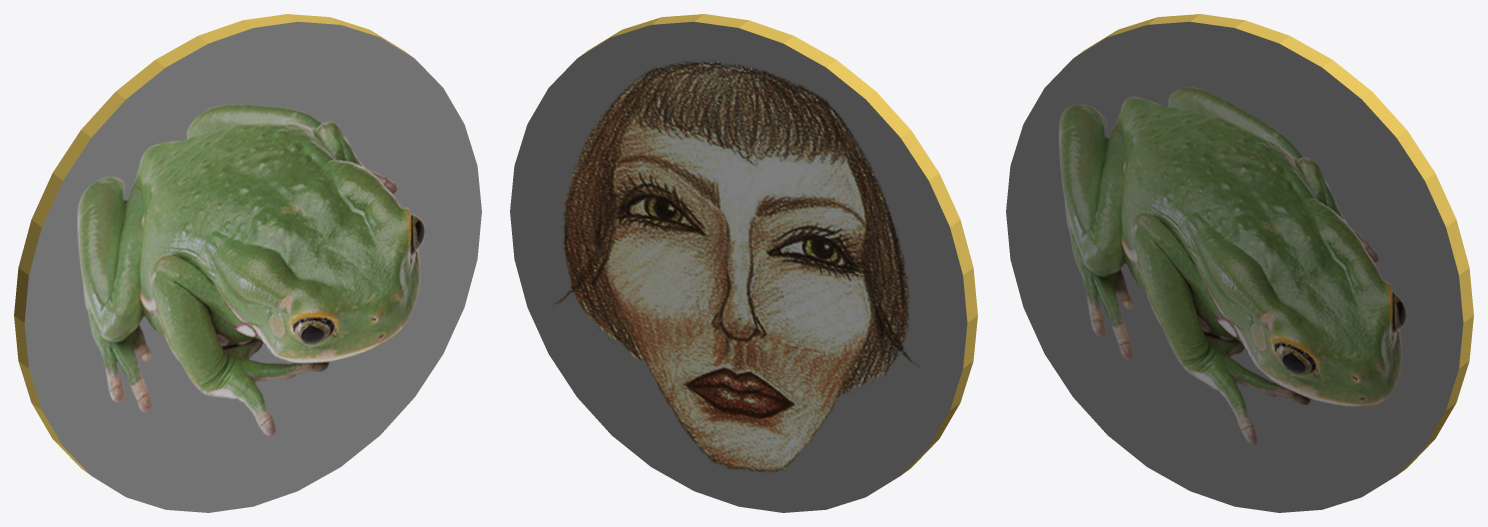
File: cointest1.obj
3 views of the same model, side by side, from view 1: azimuth 30°, elevation 25°; view 2: azimuth 150°, elevation 25°; view 3: azimuth 330°, elevation 25° (orthographic).
Parts seen in each view (by area): view 1: Cylinder; view 2: Cylinder; view 3: Cylinder.
Part boxes in pixels (left/top/right/bottom): Cylinder: left=14, top=14, right=481, bottom=512; Cylinder: left=510, top=14, right=977, bottom=512; Cylinder: left=1006, top=14, right=1473, bottom=512.
Bounding box in the file's own units: 2 × 2 × 0.08.
Materials: 1 (1 with a texture image).
